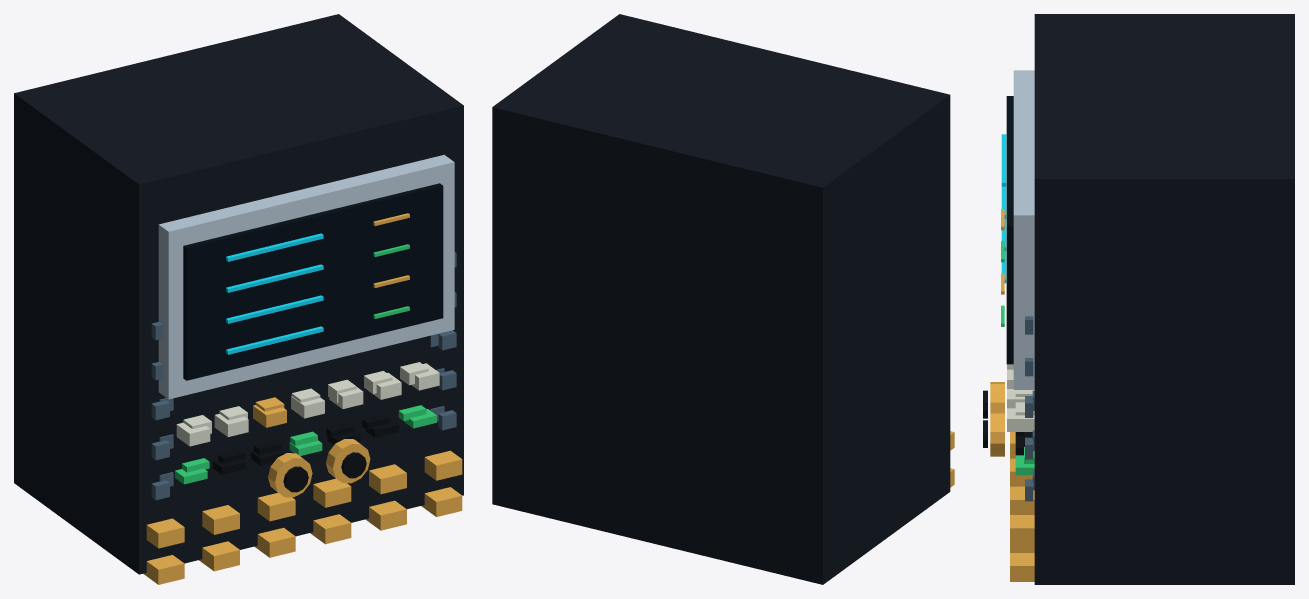
The model's file is 33_L92_LanderLegCalibrationRig.fbx.
The picture shows the model from 3 angles, left to right: view 1: azimuth 30°, elevation 25°; view 2: azimuth 150°, elevation 25°; view 3: azimuth 270°, elevation 25°; orthographic projection. The views are drawn at different scales.
Visible parts, largest first — view 1: L92_LanderLegCalibrationRig, L92_LanderLegCalibrationRig_Part_0012, L92_LanderLegCalibrationRig_Part_0014; view 2: L92_LanderLegCalibrationRig; view 3: L92_LanderLegCalibrationRig, L92_LanderLegCalibrationRig_Part_0014, L92_LanderLegCalibrationRig_Part_0012.
Part boxes in pixels (x1,y1,x2,y2): L92_LanderLegCalibrationRig: (14, 14, 463, 584); L92_LanderLegCalibrationRig_Part_0012: (268, 453, 312, 497); L92_LanderLegCalibrationRig_Part_0014: (326, 439, 370, 483); L92_LanderLegCalibrationRig: (492, 14, 954, 584); L92_LanderLegCalibrationRig: (1001, 14, 1294, 584); L92_LanderLegCalibrationRig_Part_0014: (990, 411, 1004, 456); L92_LanderLegCalibrationRig_Part_0012: (990, 382, 1004, 411).
Size of the model in its own units: 112 by 130 by 89.6.
